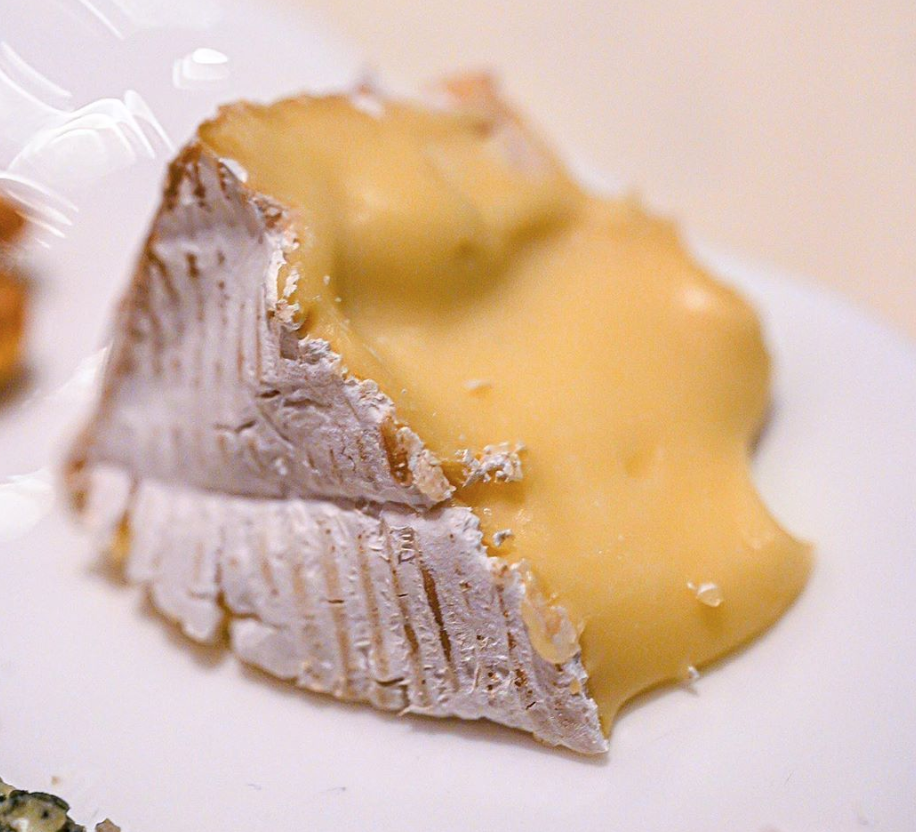camembert: (61, 66, 818, 761)
